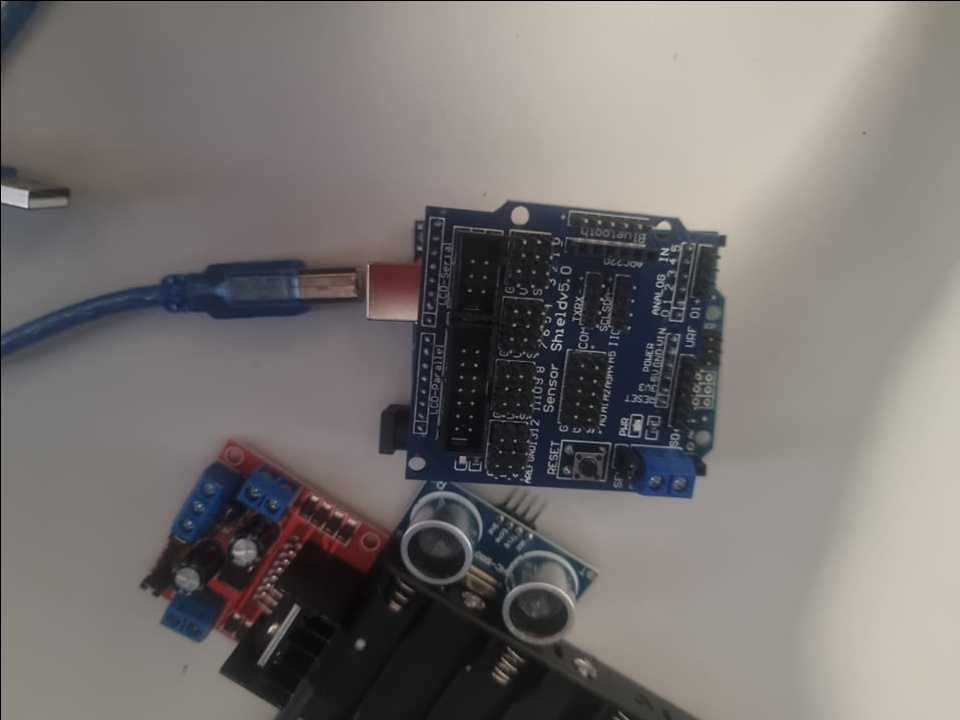5V EXPANSION: (425, 202, 717, 507)
BATTERY BOX: (280, 570, 685, 717)
MOTOR: (116, 438, 386, 707)
SENSOR: (401, 478, 590, 647)
